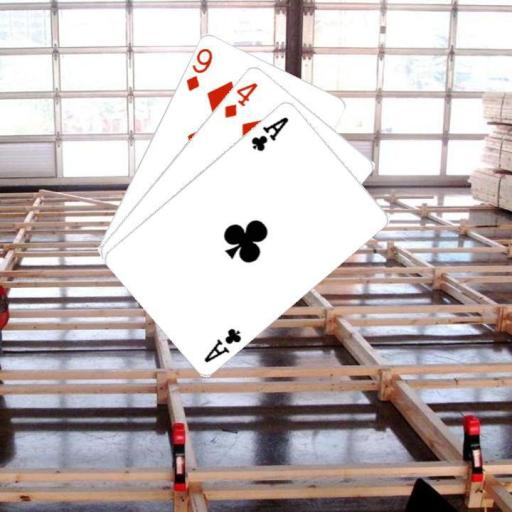card-corner: (247, 113, 291, 153), (201, 324, 243, 364), (221, 78, 260, 120), (183, 44, 214, 93)
